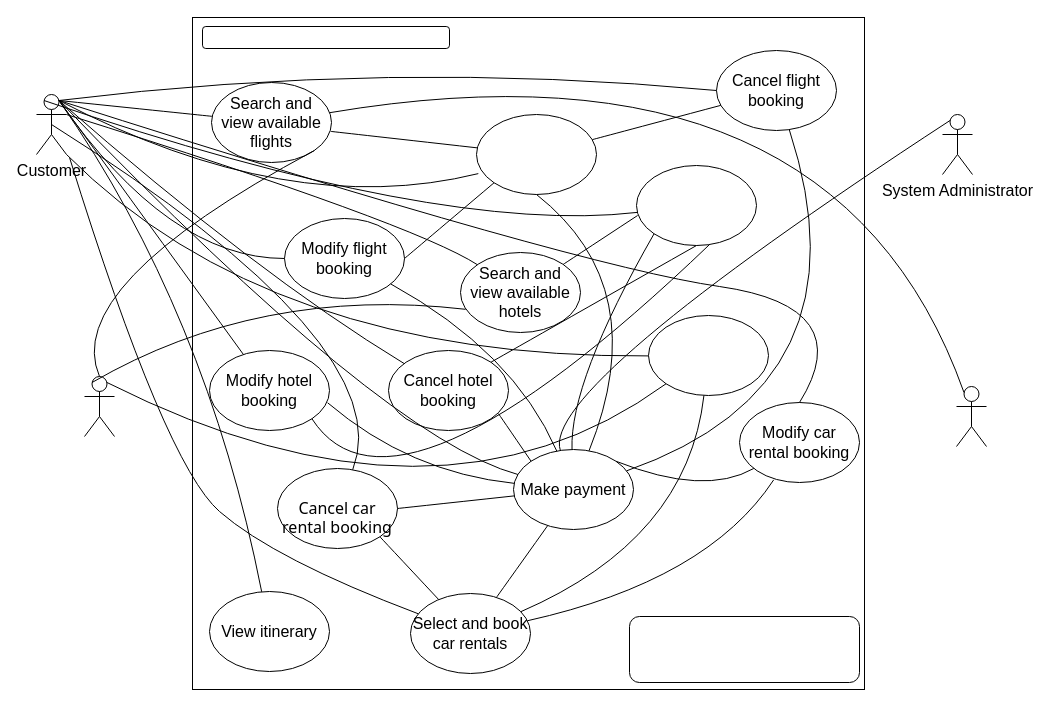
Some shapes in this 1050 by 707 pixel diagram are drawn without their labels. Here are the shapes that lost their labels. From the top down, the centre of each, then its label:
At pixel 326 37: "TRAVEL WEBSITE".
At pixel 536 154: "Select and book flights".
At pixel 696 205: "Select and book hotels".
At pixel 708 355: "Search and view available car rentals".
At pixel 99 406: "Third Party Services".
At pixel 971 416: "Travel Agent".
At pixel 744 649: "NAME- JAHNAVI SIRIPURAPU ROLL.NO- SE20UCSE178".
